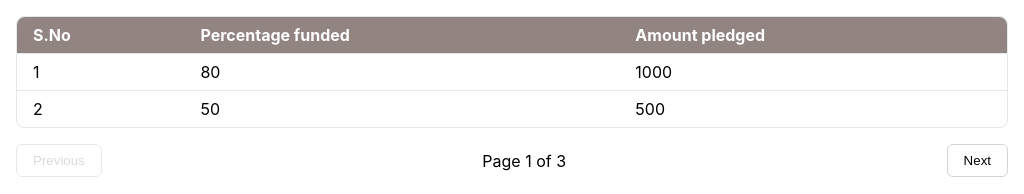
it: Table Component › disables next button on last page
Click the button "Next" at coordinates (977, 160), box [947,144,1008,177]
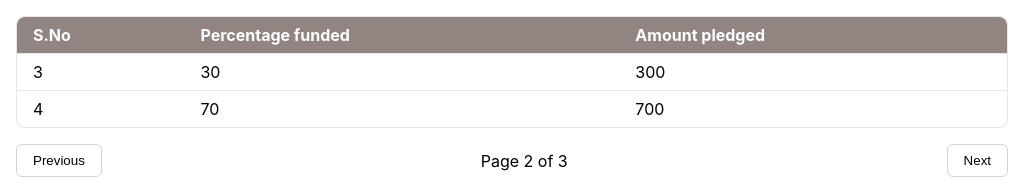
Click the button "Next" at coordinates (977, 160), box [947,144,1008,177]
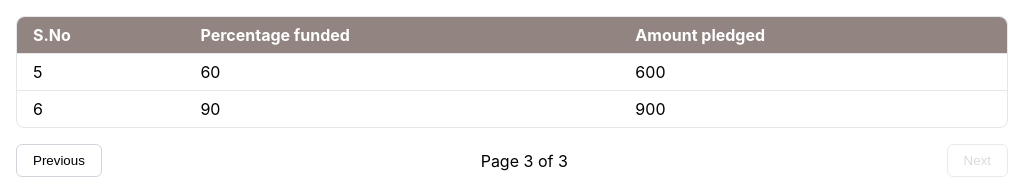
Check: the button with aria-label "Go to Next Page" is disabled, box [947,144,1008,177]
